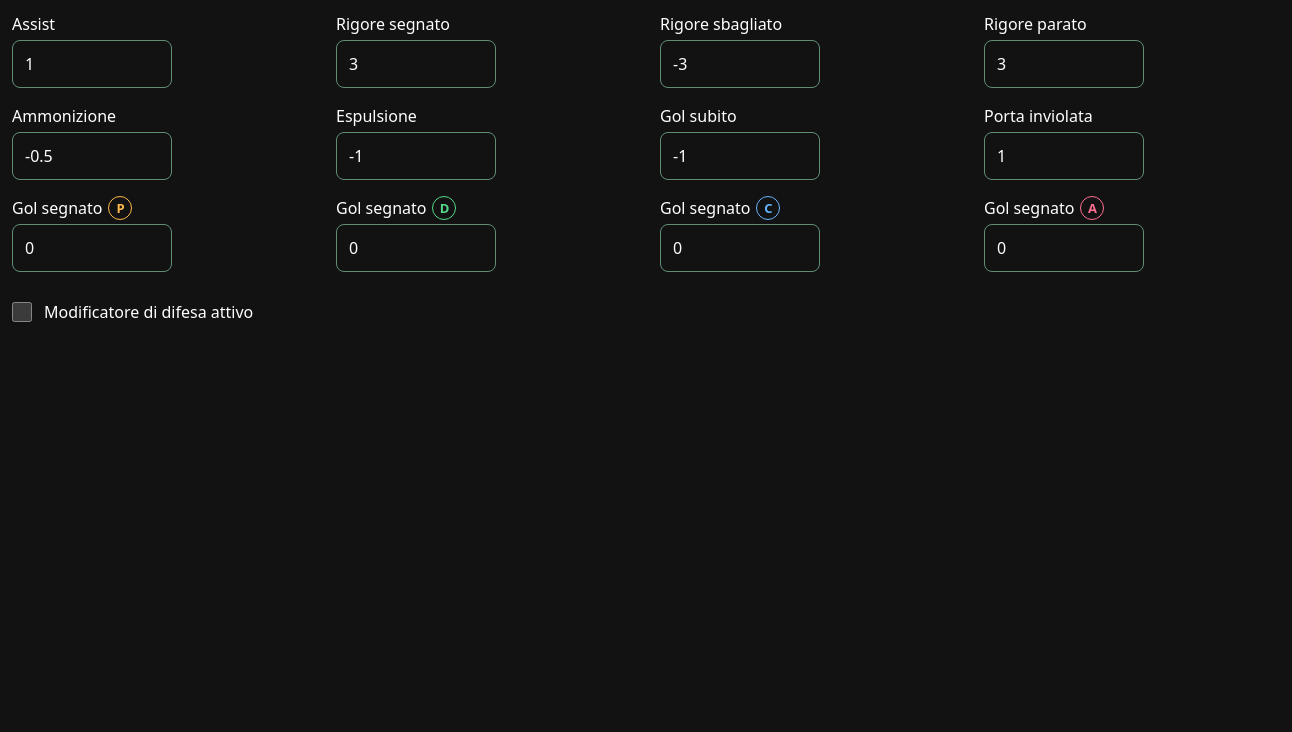
ScoringFieldset › il checkbox del modificatore mostra e nasconde i suoi parametri, senza perderli
Click the checkbox labelled "Modificatore di difesa attivo" at (22, 312), box [12, 302, 32, 322]
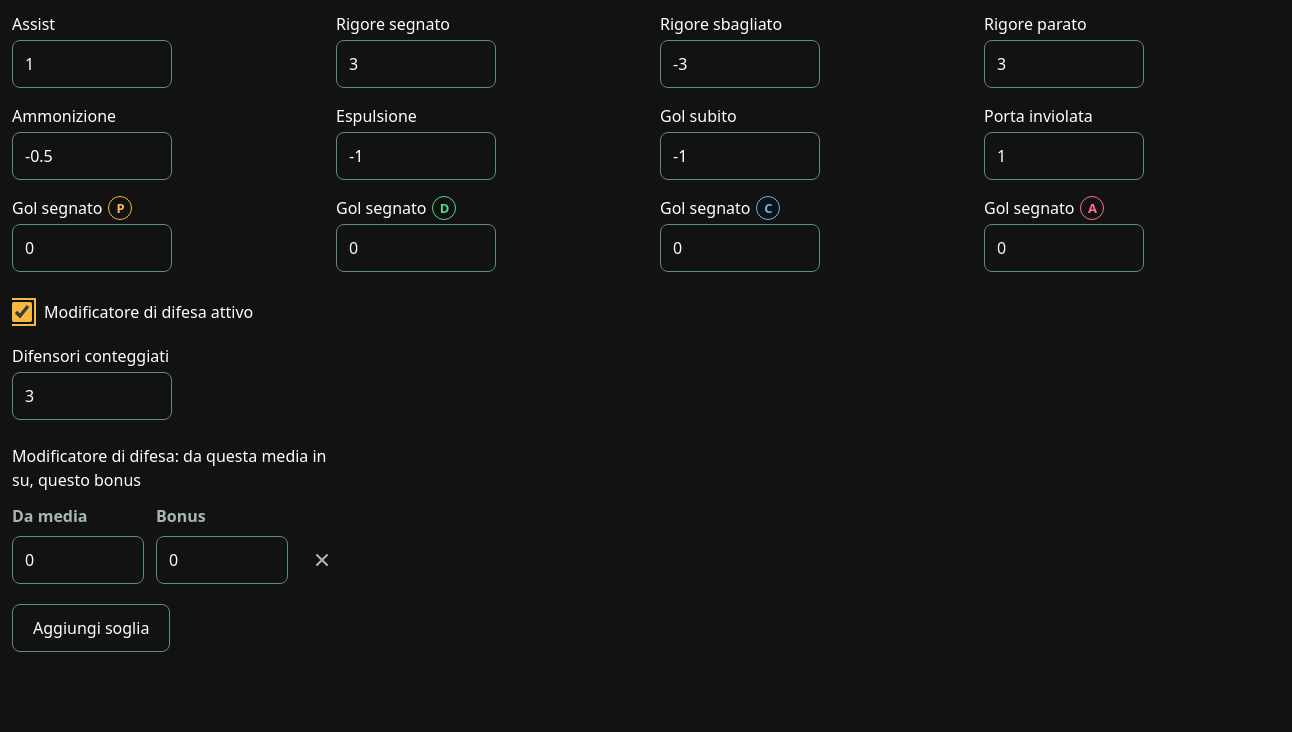
Result: the 1st number field named "soglia da media, riga 1" is enabled
Result: the number field labelled "Difensori conteggiati" holds "3" at [12, 372, 172, 420]
Replace the text in the 1st number field named "soglia da media, riga 1" with "6.5" at (78, 560), box [12, 536, 144, 584]
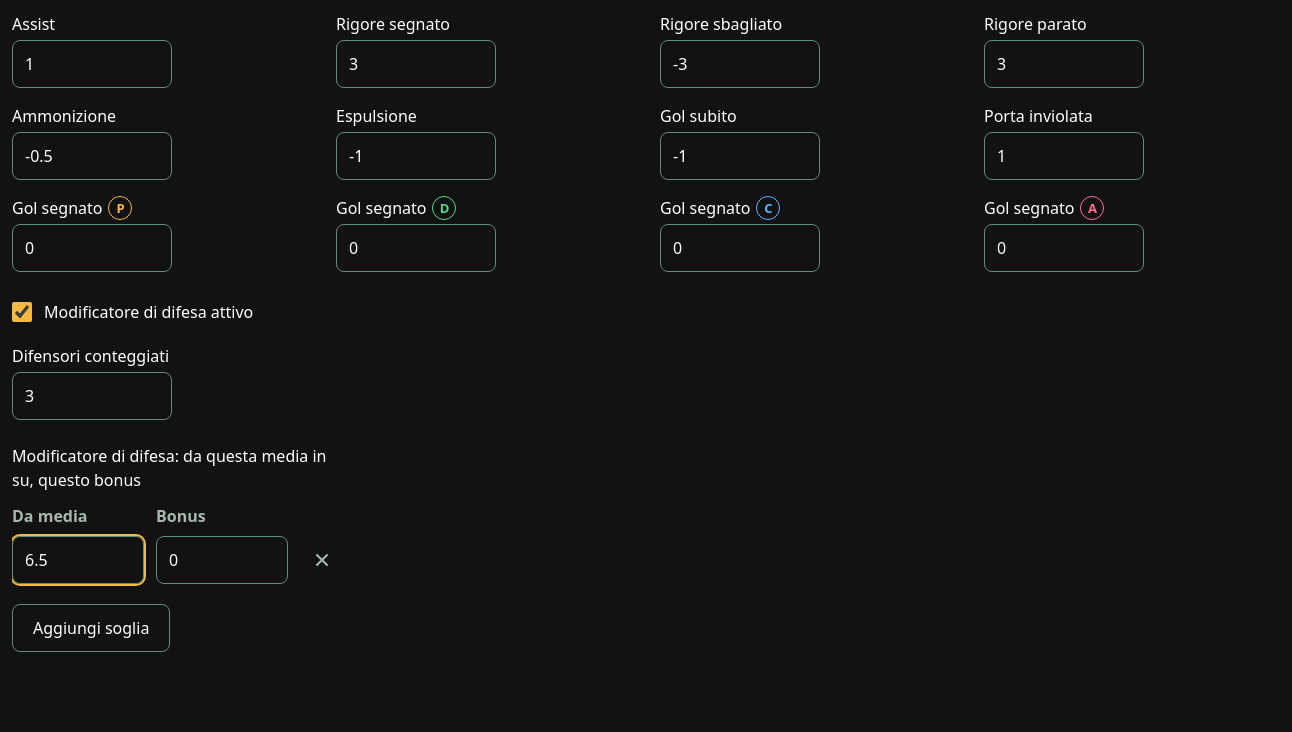
Click the checkbox labelled "Modificatore di difesa attivo" at (22, 312), box [12, 302, 32, 322]
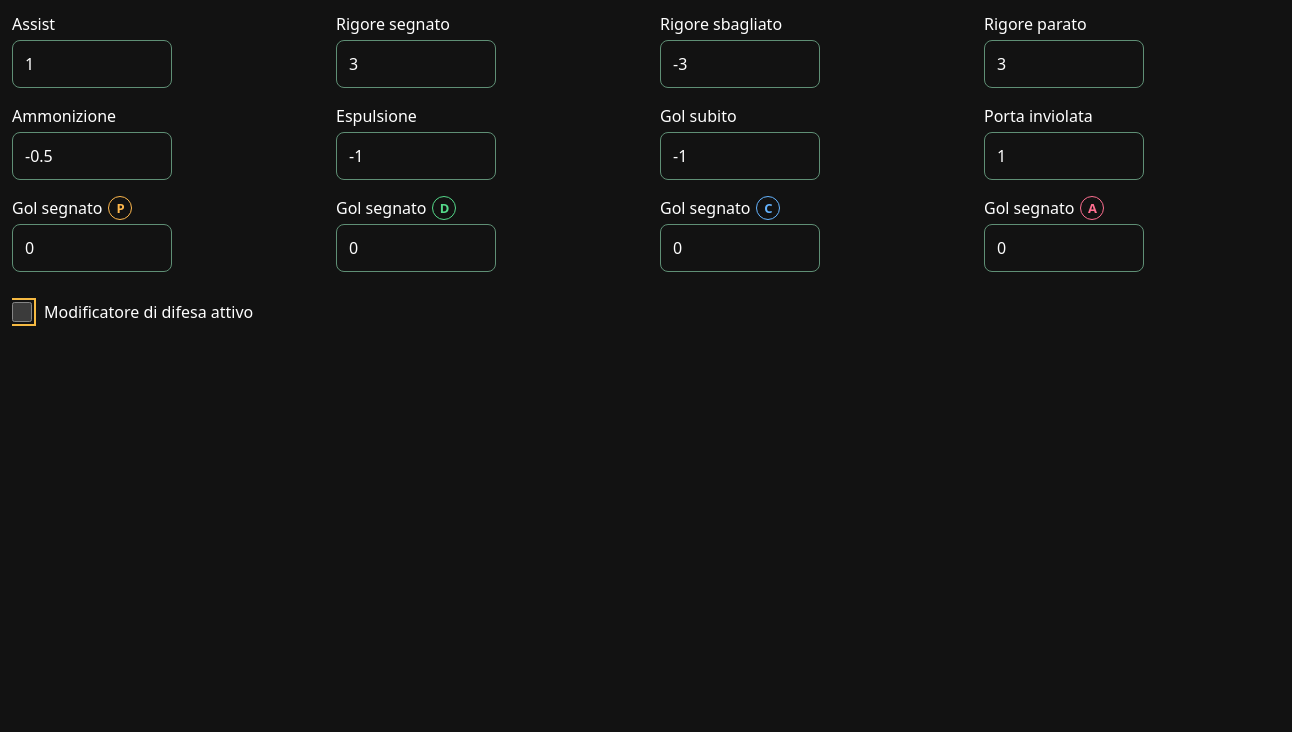
Expected: the field labelled "soglia da media, riga 1" is not shown
Click the checkbox labelled "Modificatore di difesa attivo" at (22, 312), box [12, 302, 32, 322]
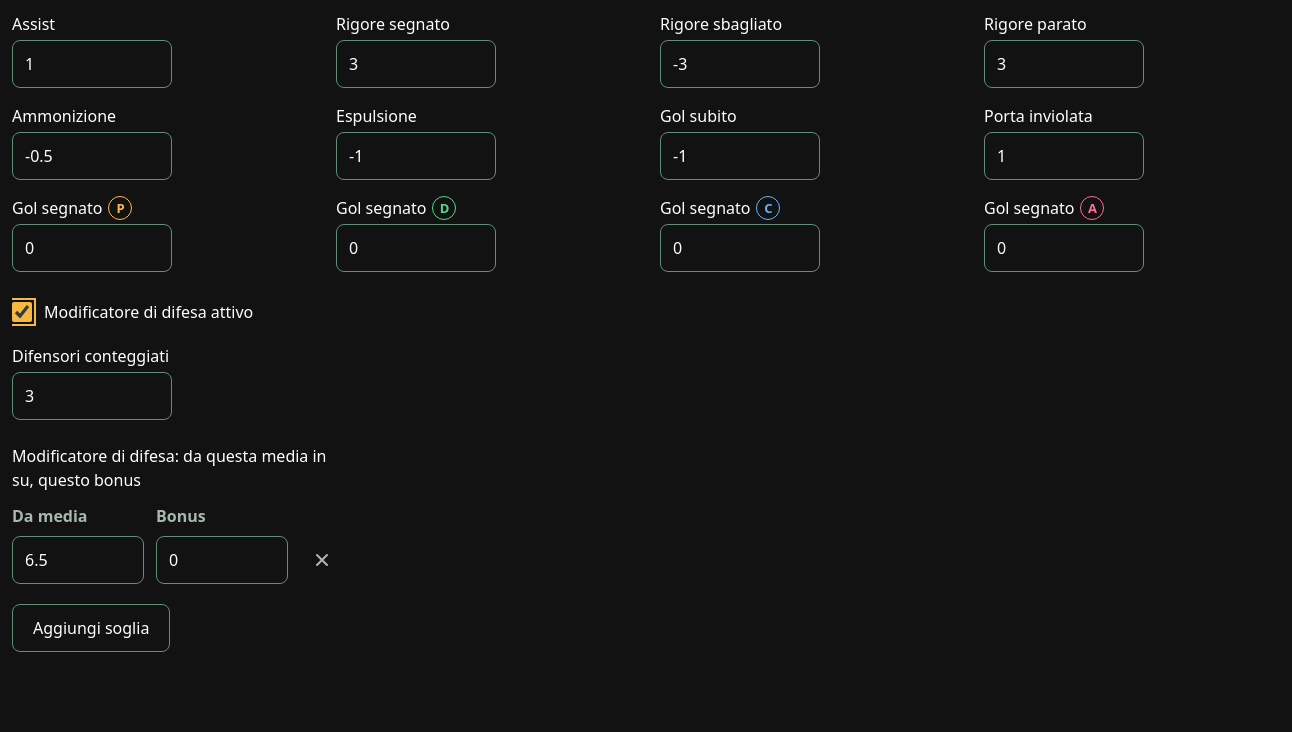
Result: the 1st number field named "soglia da media, riga 1" holds "6.5" at [12, 536, 144, 584]
